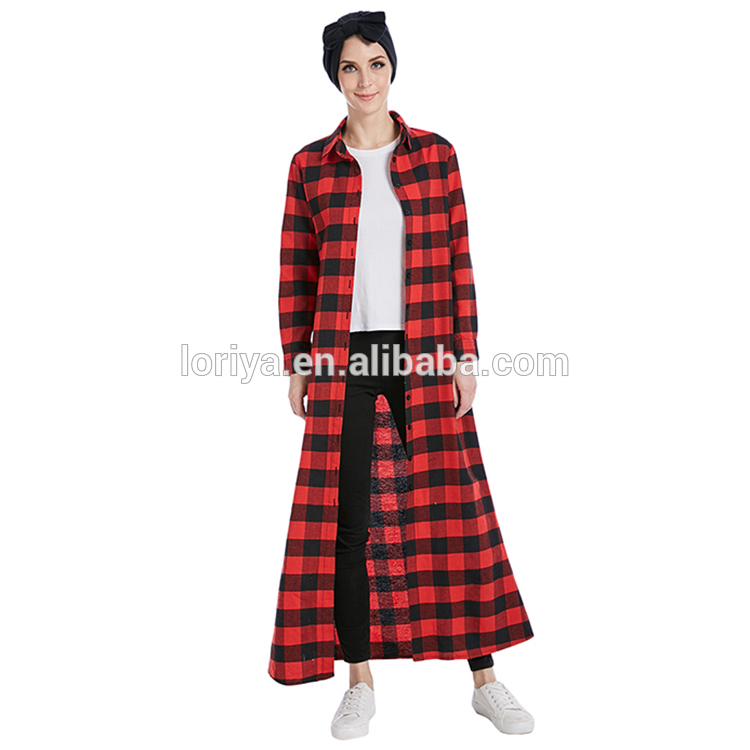squared: (267, 108, 541, 691)
